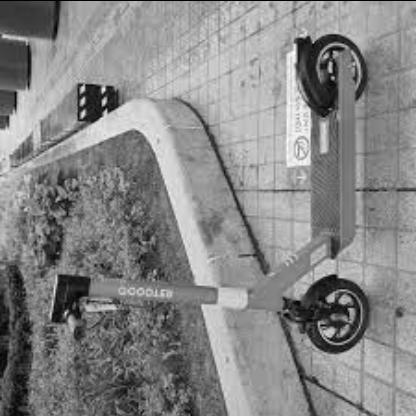bike: (48, 233, 370, 358)
traffic light: (77, 83, 118, 123)
